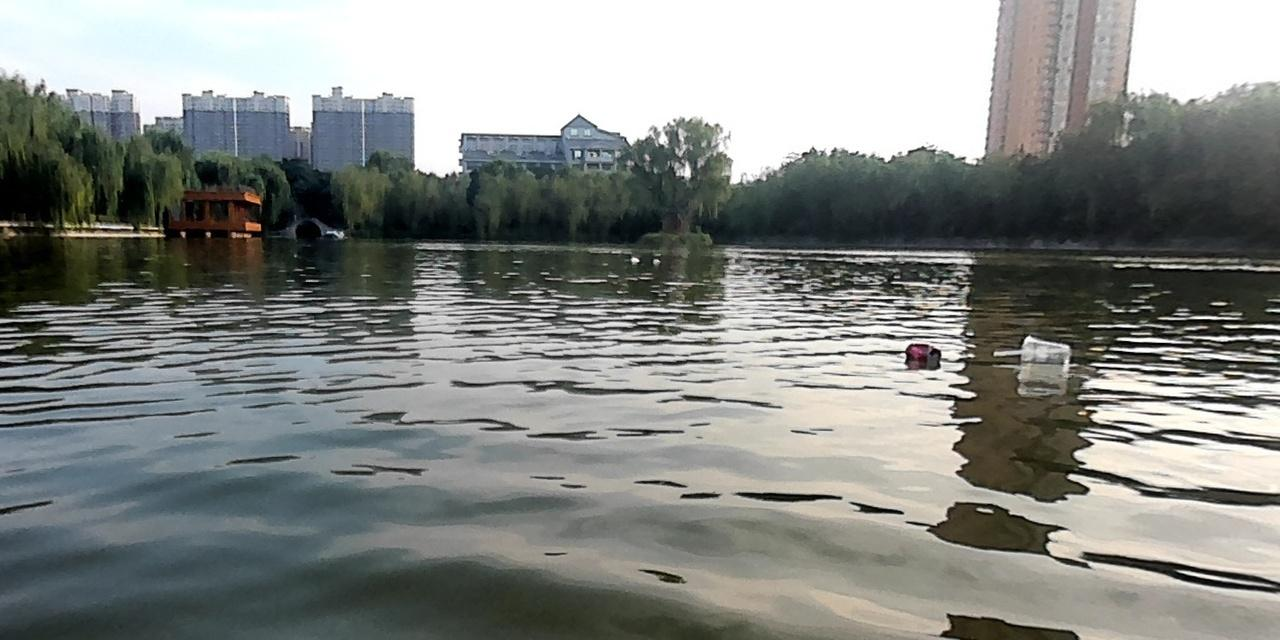bottle: (989, 333, 1071, 363), (903, 343, 940, 362)
